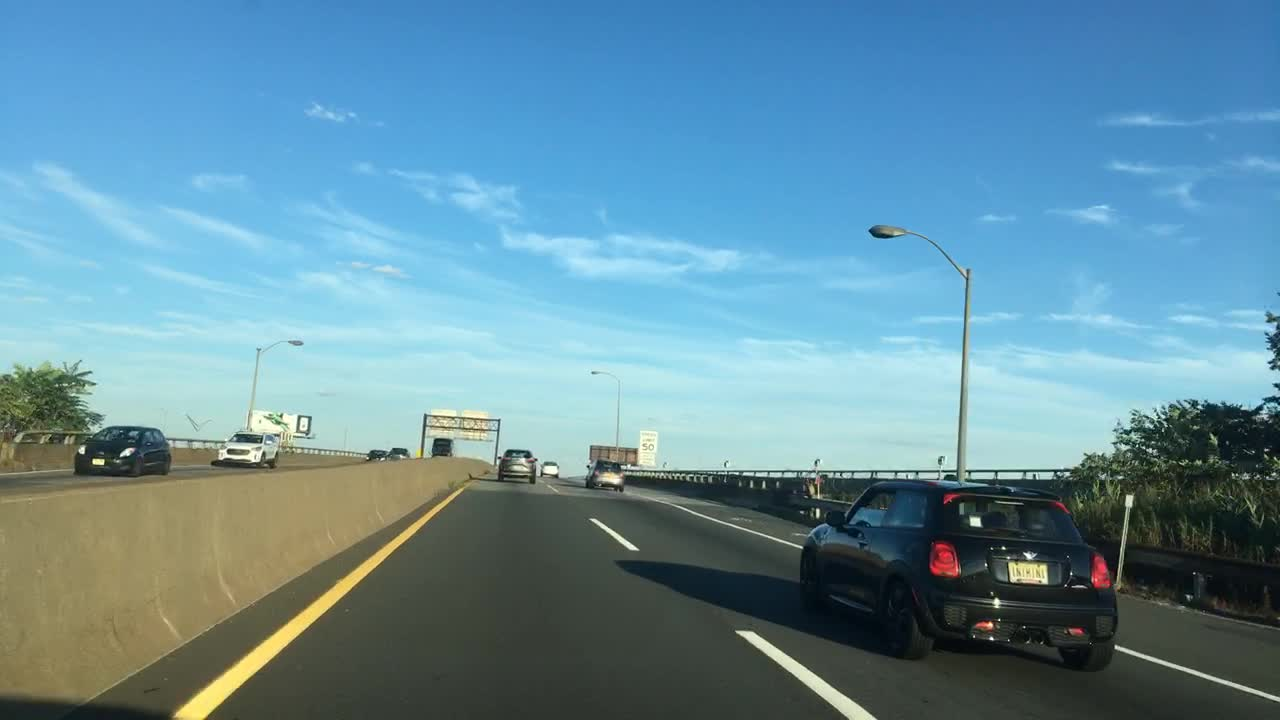car: (797, 477, 1119, 669), (71, 424, 173, 477), (215, 429, 283, 470), (497, 448, 536, 482), (584, 461, 625, 489), (430, 437, 453, 456), (539, 461, 558, 478), (389, 447, 410, 457), (369, 448, 384, 460)
traffic sign: (589, 447, 636, 466), (460, 409, 487, 442), (430, 409, 458, 436)
